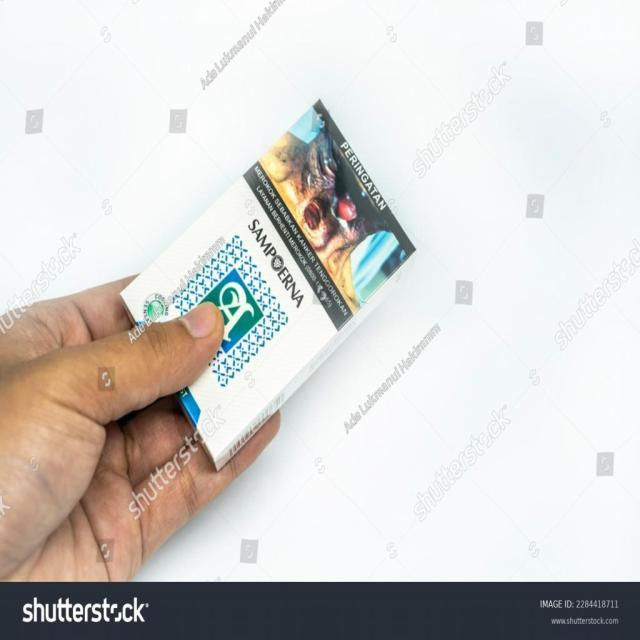smoking: (82, 99, 456, 469)
